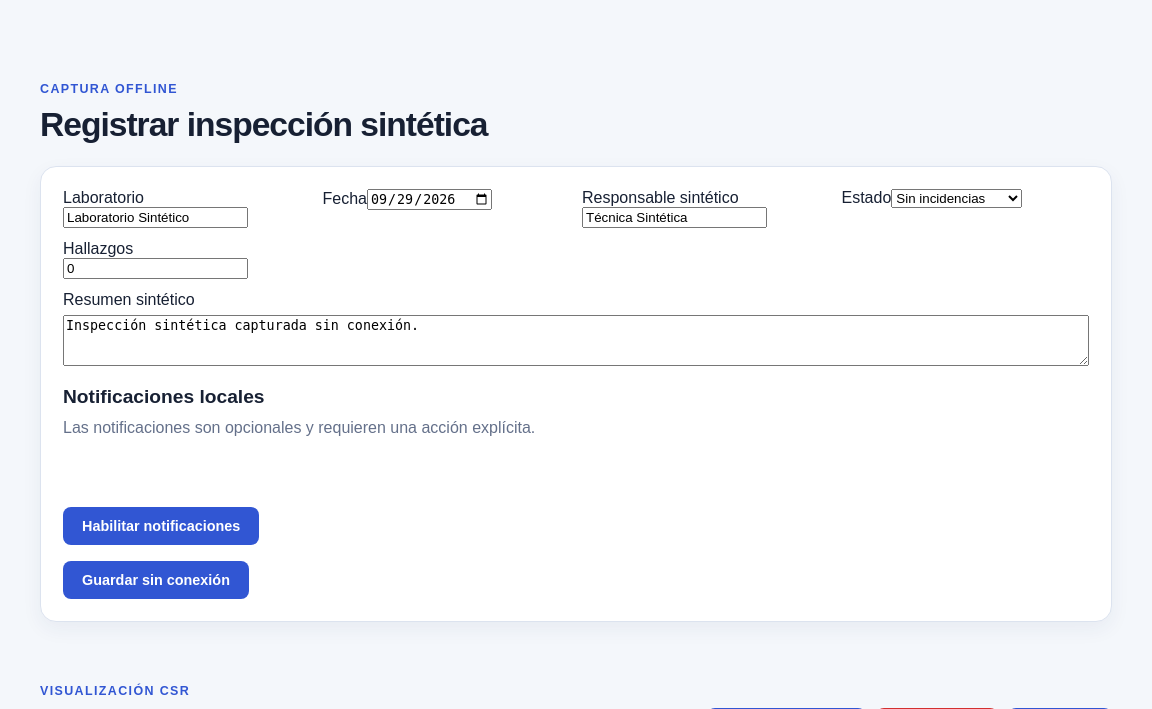
Scenario: integración de notificaciones en /inspecciones › no solicita permiso durante montaje y lo hace solo desde el botón
Step 1. Click the button "Habilitar notificaciones" → (161, 526), box [63,507,259,545]
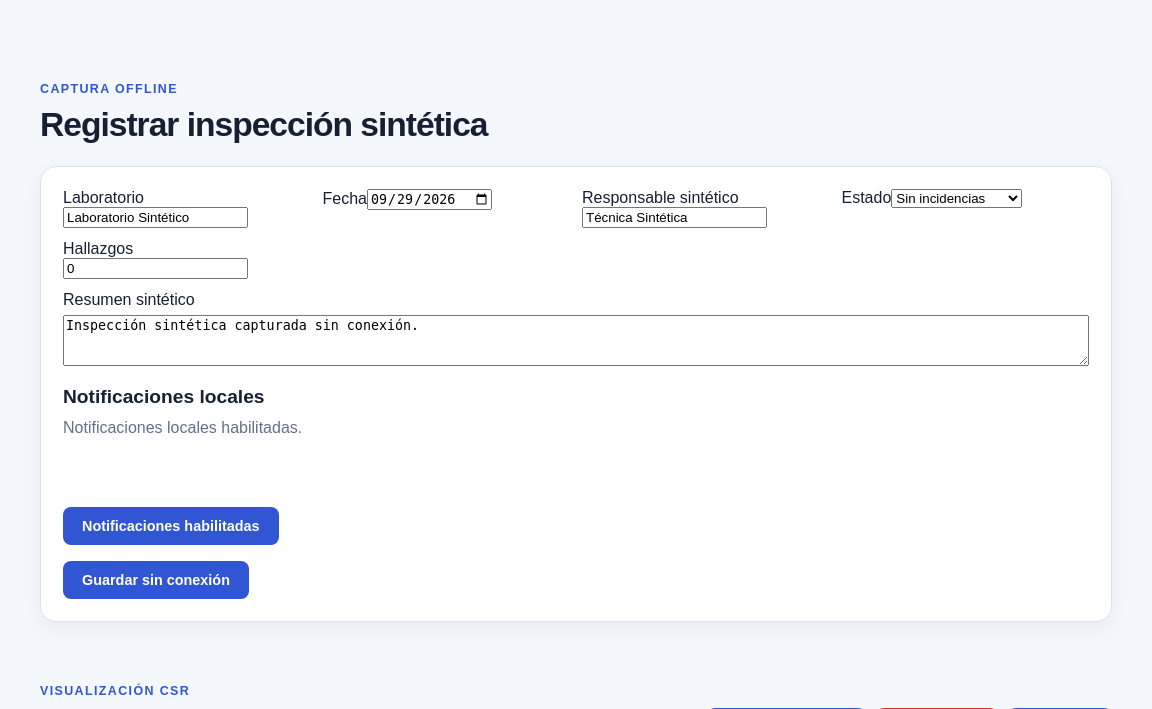
Check: the text "Notificaciones locales habilitadas." is shown, box [63,419,302,436]
